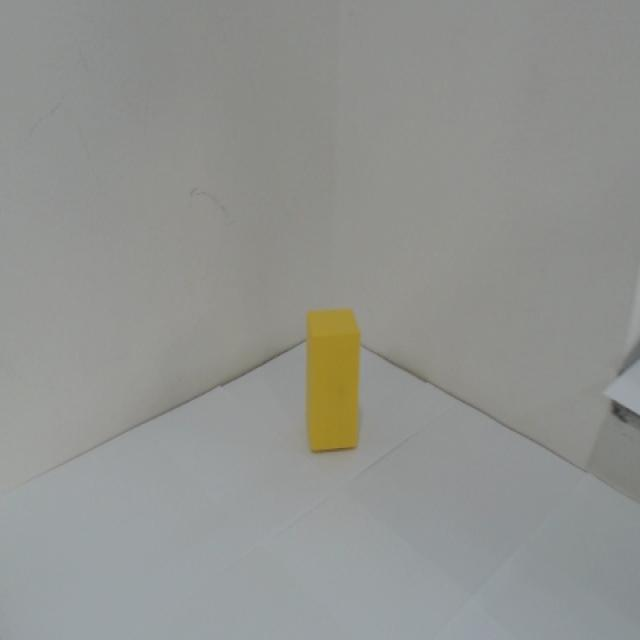cube: (293, 305, 371, 460)
